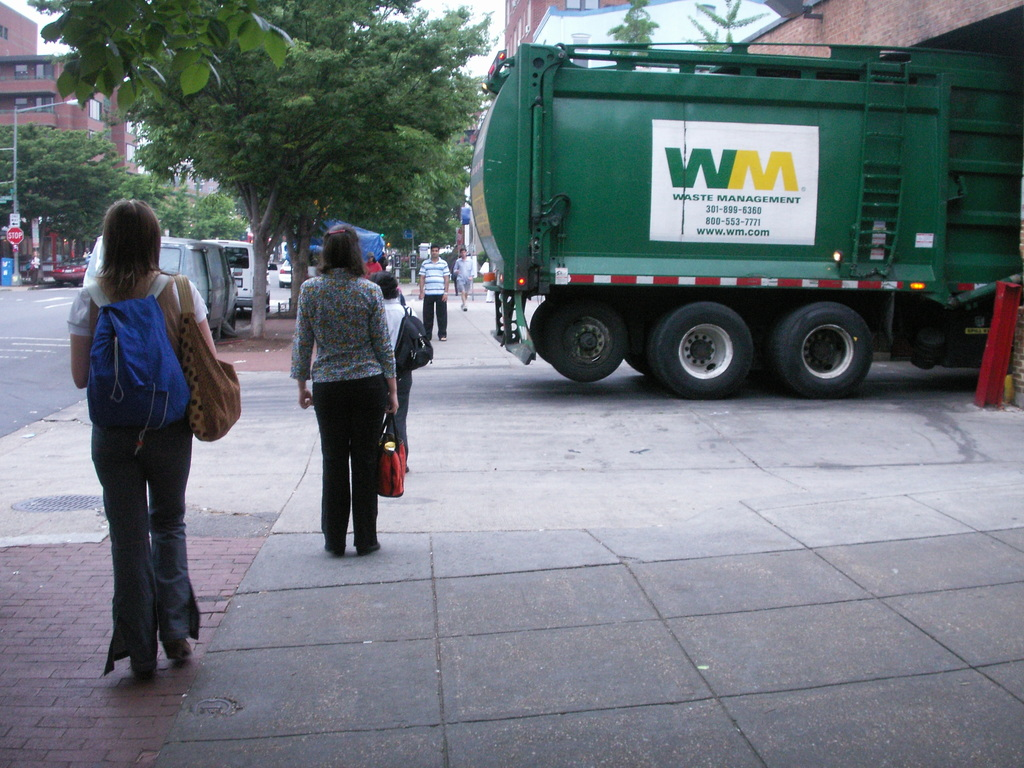Car: (51, 255, 90, 288), (278, 258, 288, 288)
